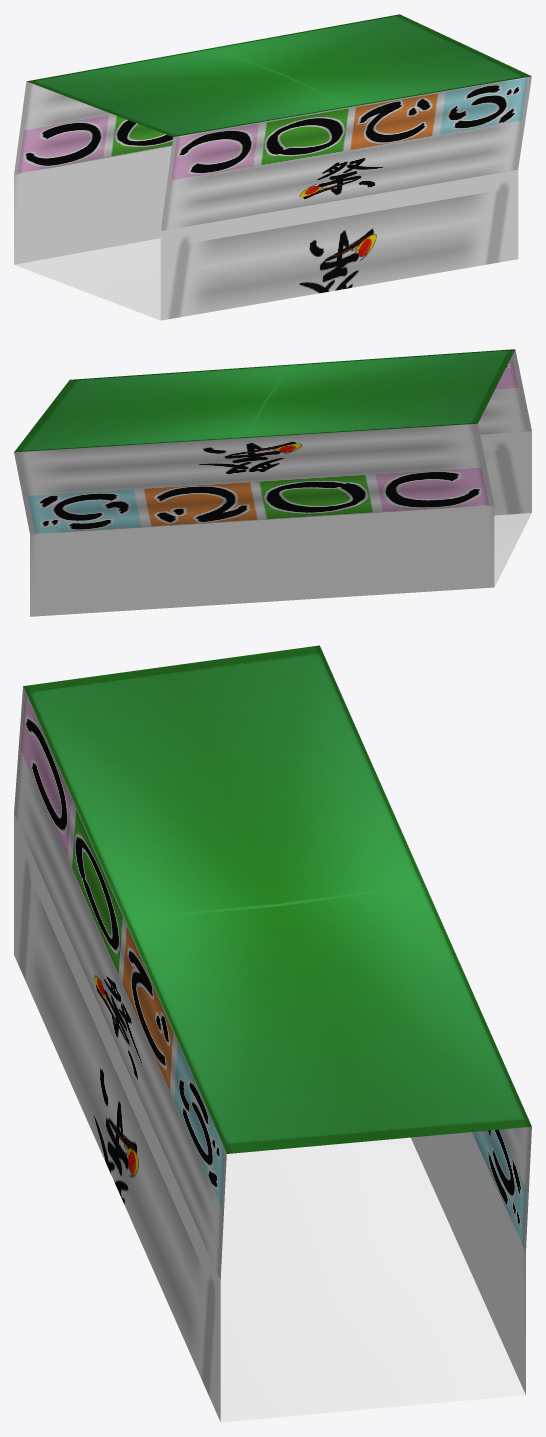
File: CourseAki_Wall_L_6_13.fbx
3 views of the same model, one above another, from view 1: azimuth 30°, elevation 25°; view 2: azimuth 150°, elevation 25°; view 3: azimuth 270°, elevation 25° (orthographic). The views are drawn at different scales.
Visible parts, largest first — view 1: polySurface378; view 2: polySurface378; view 3: polySurface378.
Part boxes in pixels (box(x1,y1,x2,y2)): polySurface378: box(14, 14, 531, 320); polySurface378: box(14, 349, 531, 616); polySurface378: box(14, 645, 531, 1422).
Size of the model in its own units: 5.74 by 2.98 by 3.32.
Materials: 1 (1 with a texture image).
